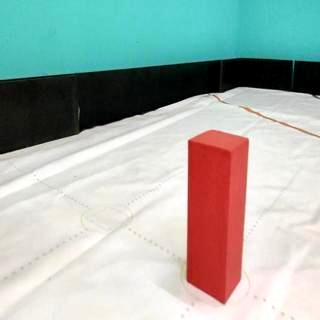redbox: (186, 129, 250, 306)
